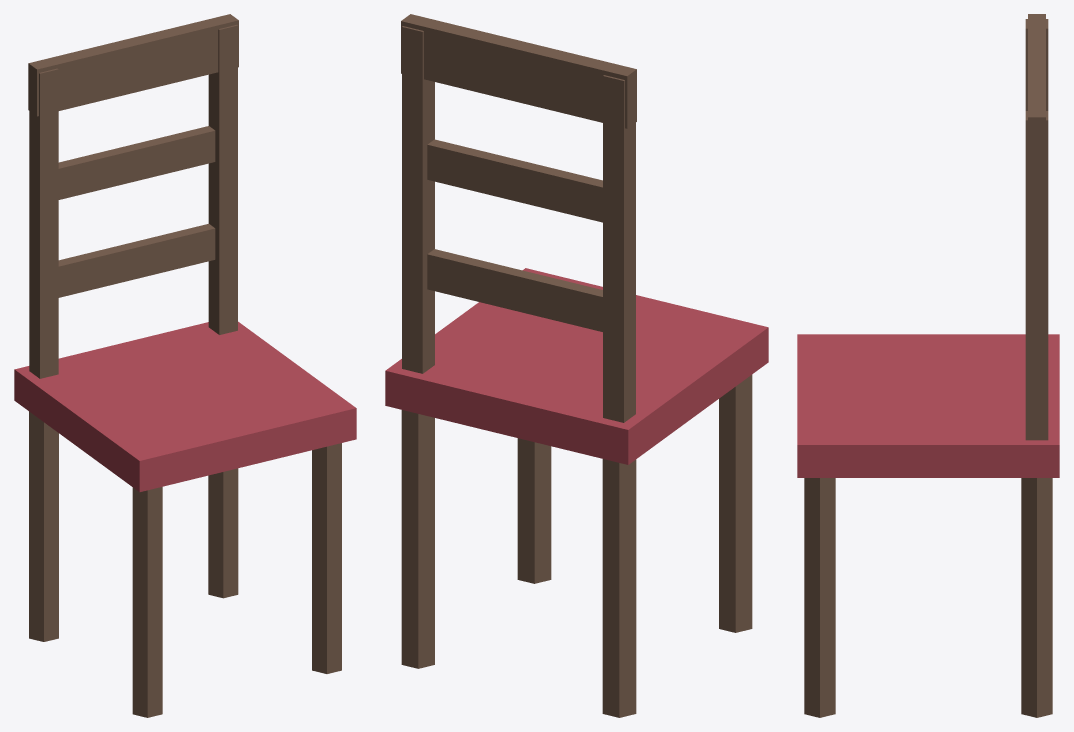
Rendered from haunted_diningchair.glb.
3 views of the same model, side by side, from view 1: azimuth 30°, elevation 25°; view 2: azimuth 150°, elevation 25°; view 3: azimuth 270°, elevation 25° (orthographic). The views are drawn at different scales.
Parts seen in each view (by area): view 1: Haunted_DiningChair; view 2: Haunted_DiningChair; view 3: Haunted_DiningChair.
Part boxes in pixels (<box>): Haunted_DiningChair: <box>14,14,356,717</box>; Haunted_DiningChair: <box>385,14,768,717</box>; Haunted_DiningChair: <box>797,14,1059,717</box>.
Bounding box in the file's own units: 0.58 × 1.46 × 0.58.
